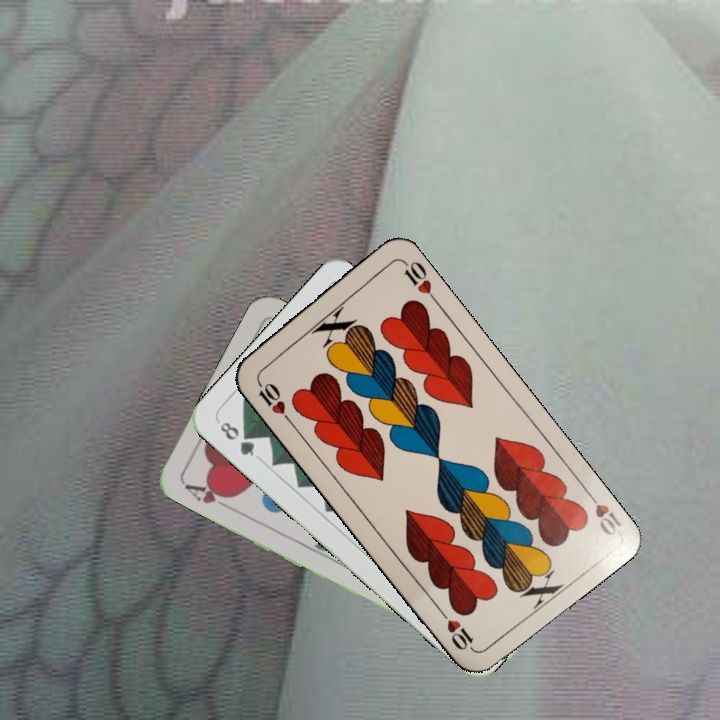G8: (216, 417, 258, 459)
H10: (581, 485, 625, 539), (252, 374, 294, 425)
HA: (180, 479, 236, 514)
